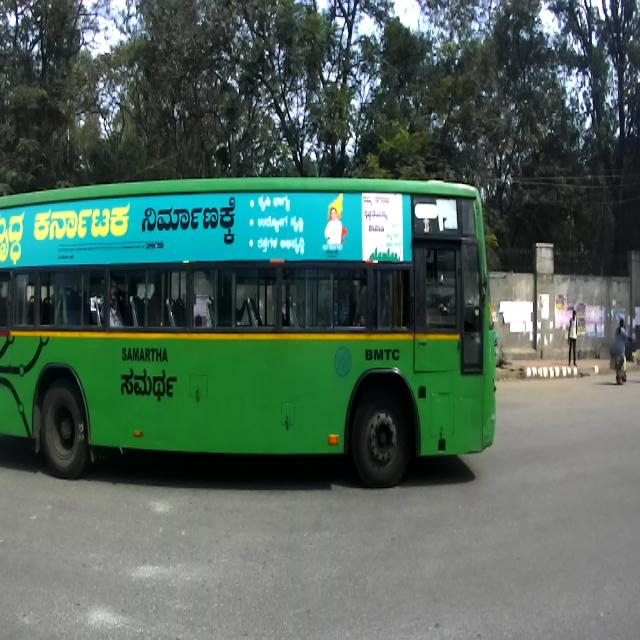bus ahead at: (0, 192, 499, 496)
